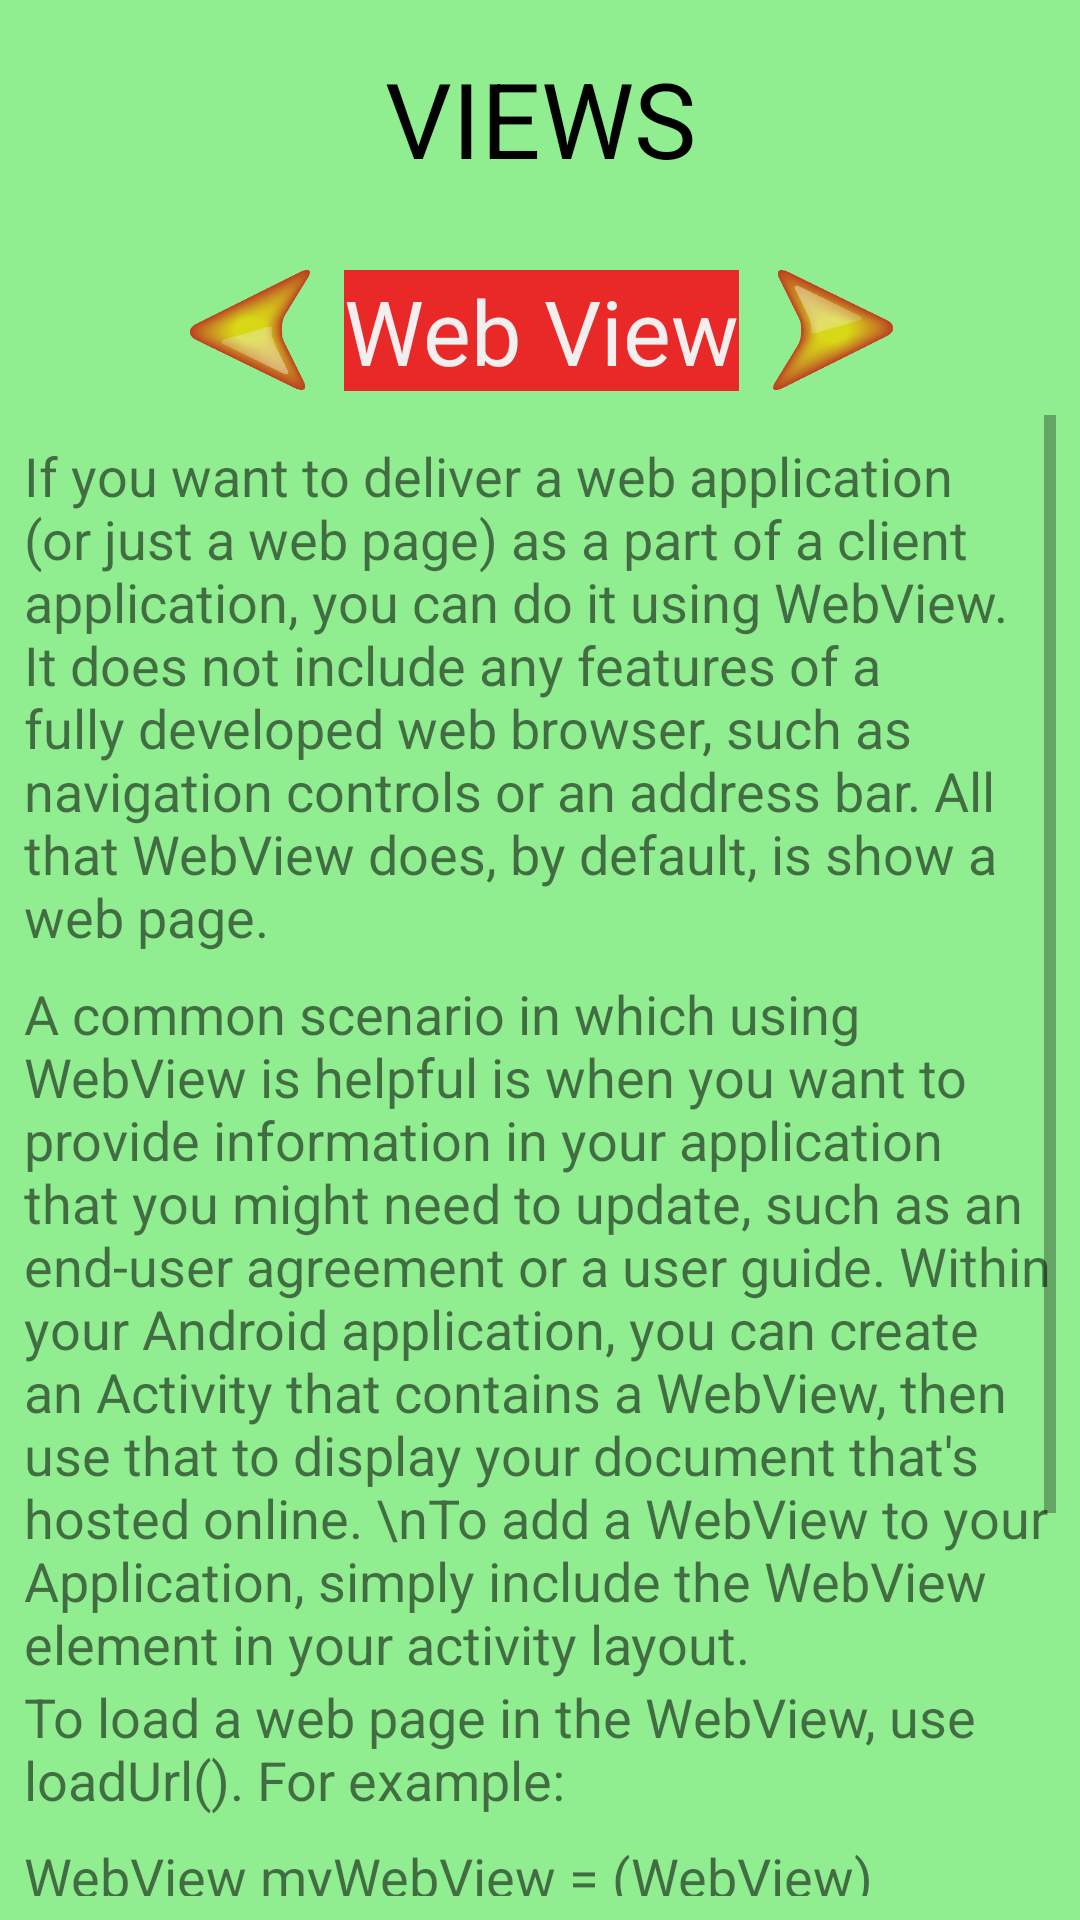

Icon bounding boxes for this 1080 × 1920 phone screenshot, format Rect(x1, y1, x2, y2):
next: Rect(773, 270, 893, 390)
previous: Rect(190, 270, 310, 390)
